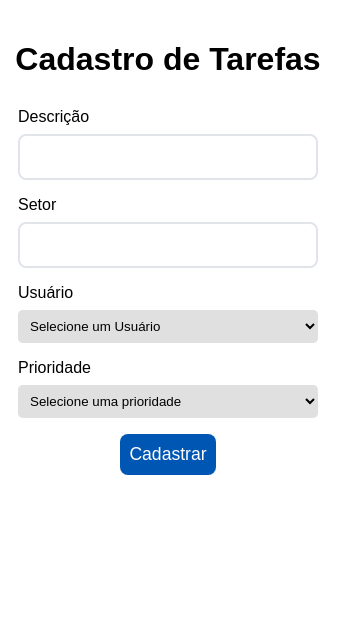
Test: Cadastro de Tarefas › deve exibir erro ao preencher a descrição com menos de 2 caracteres
In the field labelled "Descrição": {"x": 168, "y": 157} 18,134 -> 318,180, type "R"
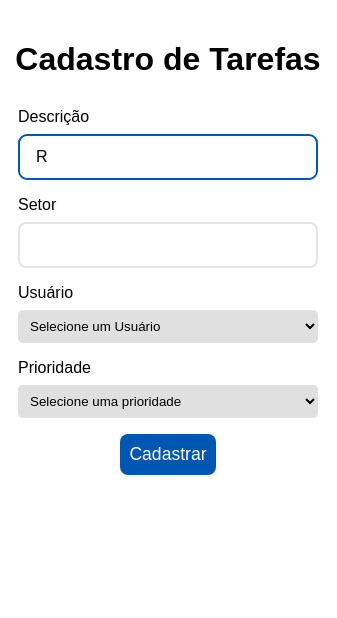
Click the button "Cadastrar": {"x": 168, "y": 454} 120,434 -> 216,475
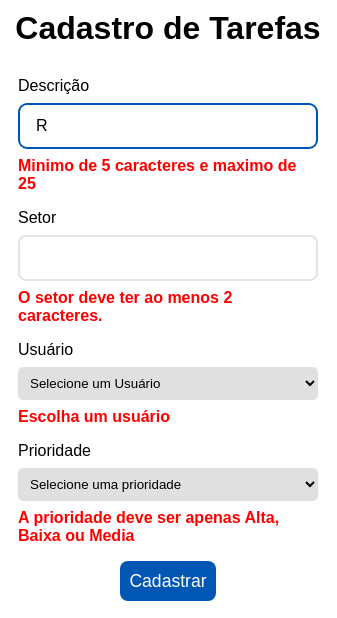
Now the text "O setor deve ter ao menos 2 caracteres." is shown, box 18,289 -> 232,324
